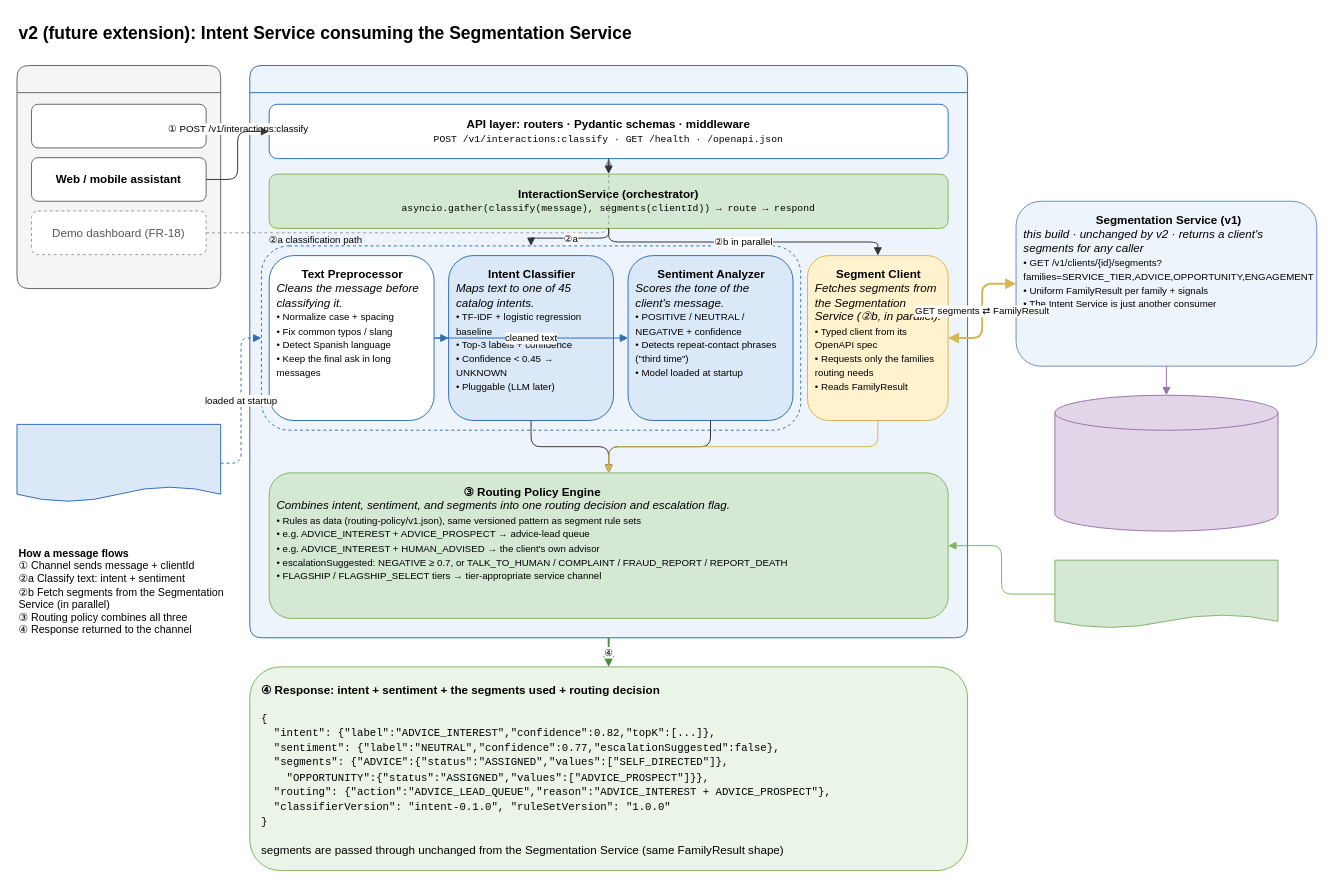
Some shapes in this 1334 by 888 pixel diagram are drawn without their labels. The box of each missing label's shape, as (x1, y1, x2, y2) in pixels:
Client-facing channels: (16, 65, 221, 289)
Contact-center chat: (31, 103, 206, 148)
Intent Service (FastAPI · Docker) · separate service: (249, 65, 968, 638)
models/ intent-0.1.0.joblib sentiment-0.1.0.joblib: (16, 423, 221, 502)
MongoDB client data + segment rule sets (never read by the Intent Service): (1054, 394, 1278, 531)
routing-policy/v1.json intent × segment rules · thresholds: (1054, 559, 1278, 628)
